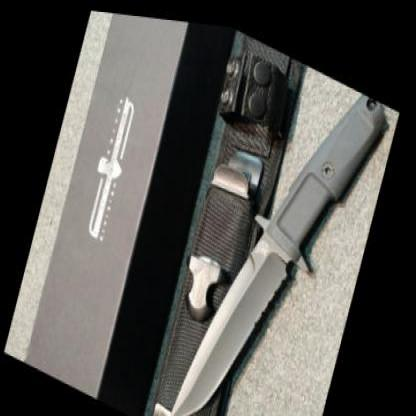knife: (158, 166, 329, 414)
